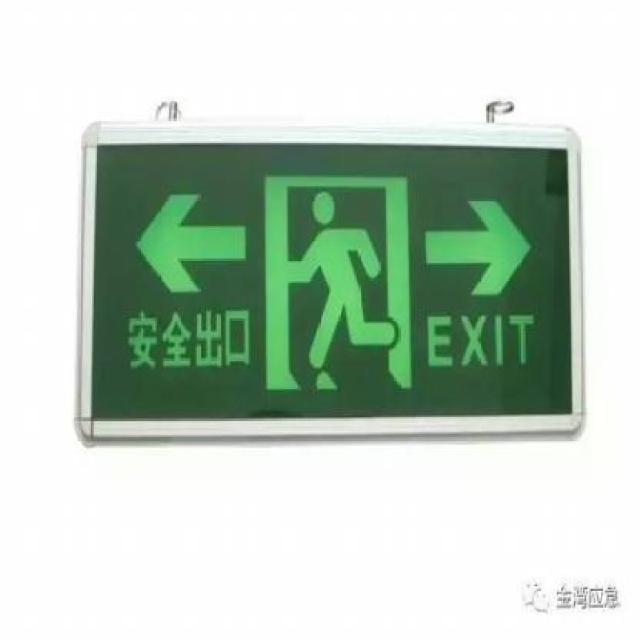exit_sign: (80, 115, 587, 437)
